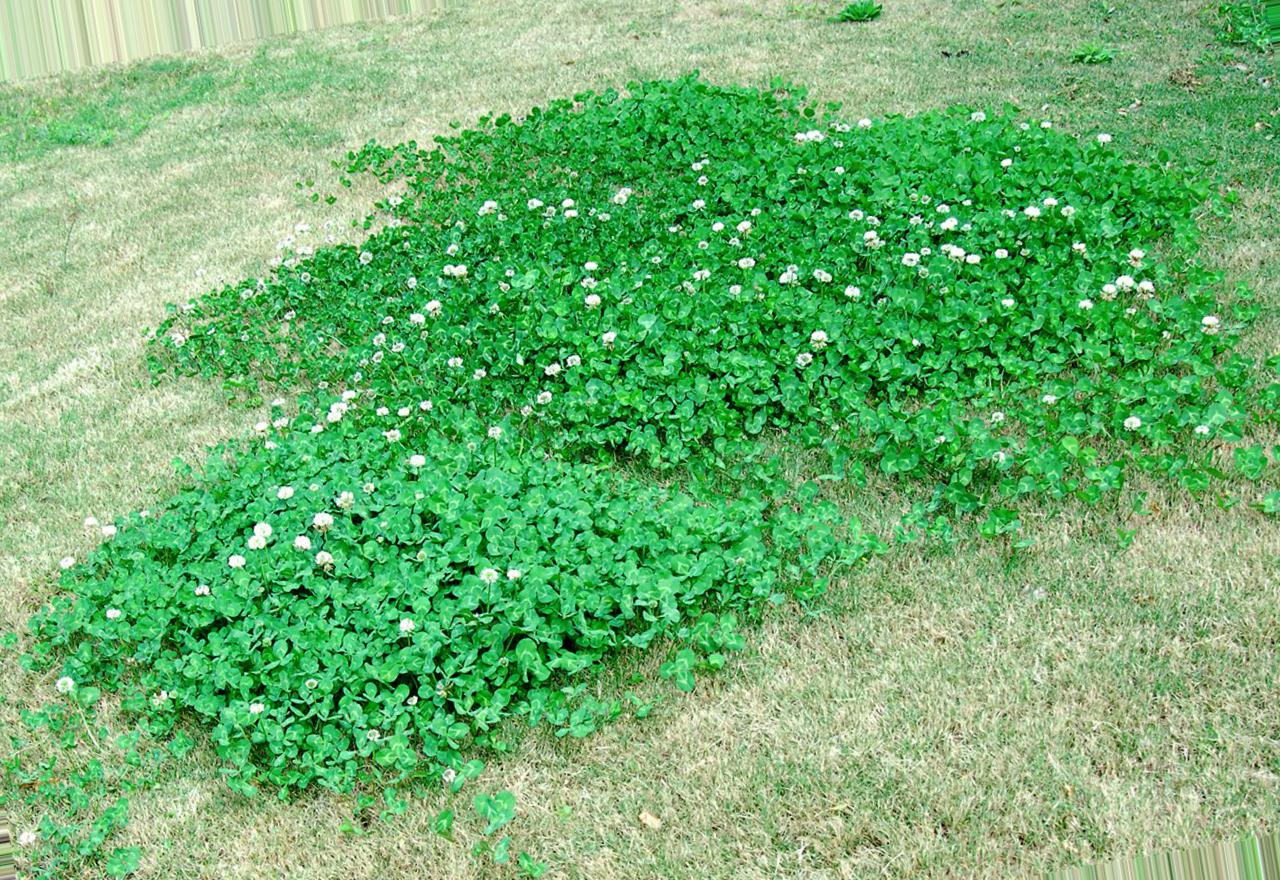patch: (791, 620, 1223, 828), (57, 149, 228, 279), (506, 13, 857, 72), (26, 352, 209, 463), (230, 59, 464, 126)
